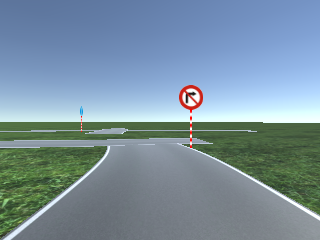-5: (1, 198, 320, 239)
NoRight: (178, 84, 203, 109)
